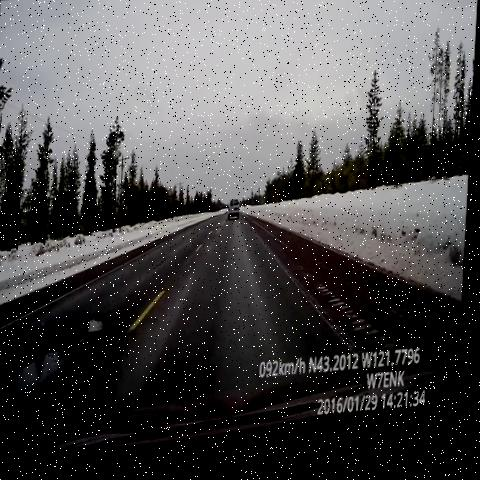pothole: (0, 348, 70, 417), (62, 306, 116, 357)
